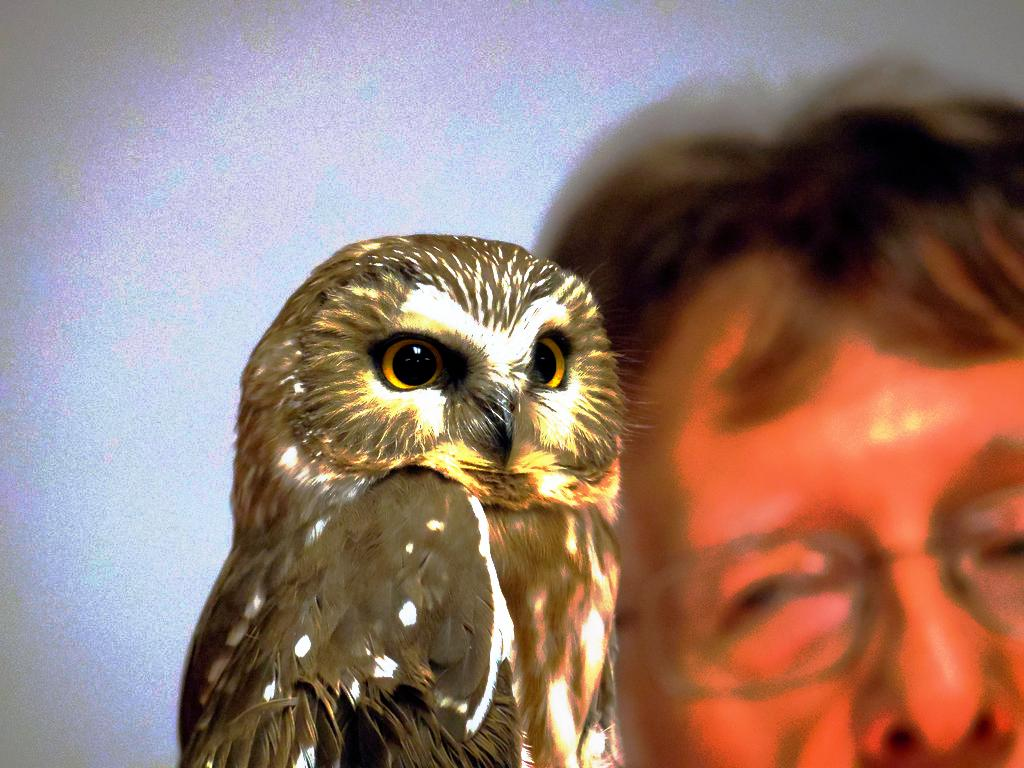Owl: (174, 226, 656, 768)
